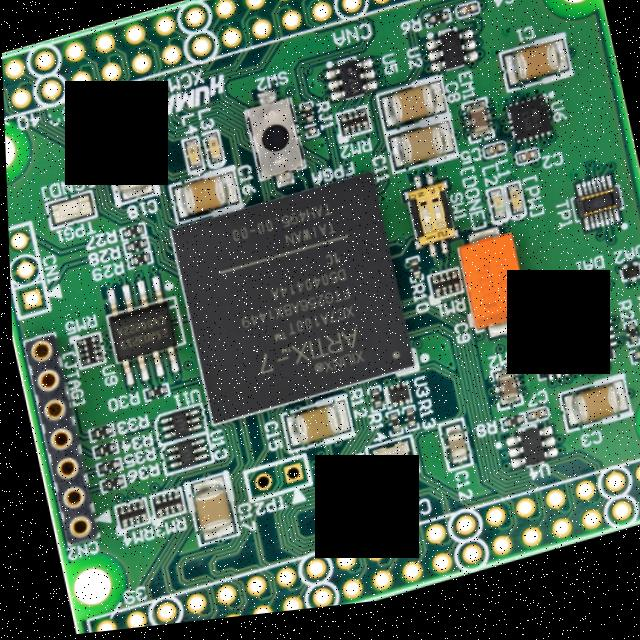-component text- -0 N-: (405, 199, 423, 209)
-component text- -1 2-: (420, 238, 447, 252)
-component text- -25Q03213 E4O0222A-: (110, 313, 167, 354)
-component text- -3 Y-: (426, 193, 441, 204)
-component text- -337G 90201-: (469, 267, 512, 323)
-component text- -ABL0 L548-: (517, 116, 542, 145)
-component text- -R50 0 D5L-: (376, 458, 400, 477)
-component text- -RN5322 E00TEC H623-: (544, 332, 591, 380)
-component text- -XILINX ARTIXTM-7 XC7A100TTM FTG256ABX1449 D5040414A 1C TAIWAN: (216, 202, 363, 403)
-component text- BU: (520, 447, 534, 467)
-component text- BUA: (444, 48, 458, 74)
-component text- C7K: (171, 419, 182, 437), (178, 450, 187, 466)
-component text- F20A: (343, 75, 360, 104)
-component text- SC: (624, 283, 633, 291)
-component text- TCR: (389, 397, 402, 407)
-electrolytic capacitor- C9: (452, 232, 528, 355)
-emi filter- EM1: (459, 106, 492, 154)
-emi filter- EM2: (487, 376, 516, 420)
-resistor jumper- RJ1: (296, 107, 316, 144)
-resistor network- RM1: (424, 276, 460, 309)
-resistor network- RM2: (334, 113, 369, 147)
-resistor network- RM3: (145, 490, 181, 524)
-resistor network- RM4: (108, 499, 145, 533)
-resistor network- RM5: (70, 333, 102, 369)
-zener diode- DA1: (583, 284, 602, 306)
-zener diode- DA2: (616, 273, 639, 298)
2005: (120, 239, 147, 257)
2016: (123, 253, 150, 271)
2024: (625, 359, 640, 377)
2025: (139, 386, 166, 404)
2036: (85, 425, 110, 442)
2041: (88, 442, 114, 460)
2045: (91, 459, 117, 478)
2052: (95, 477, 122, 495)
2189: (422, 18, 450, 37)
2211: (494, 423, 521, 442)
2240: (398, 177, 457, 270)
2350: (454, 172, 486, 244)
2376: (36, 171, 94, 203)
2384: (87, 64, 228, 138)
2509: (518, 185, 544, 231)
2689: (44, 100, 92, 129)
2741: (115, 585, 143, 609)
2746: (12, 110, 41, 133)
2844: (512, 35, 535, 55)
2856: (368, 161, 389, 192)
2867: (447, 477, 470, 512)
2900: (258, 424, 280, 460)
2911: (233, 167, 255, 203)
2933: (122, 199, 158, 224)
2955: (537, 162, 562, 183)
3057: (572, 439, 601, 463)
3153: (490, 0, 515, 20)
3188: (456, 155, 480, 177)
3210: (520, 398, 545, 421)
3221: (442, 90, 460, 115)
3232: (447, 329, 467, 357)
3250: (37, 252, 59, 285)
3251: (59, 539, 97, 564)
3257: (328, 28, 373, 57)
3258: (383, 502, 430, 534)
3295: (570, 265, 602, 289)
3296: (606, 253, 640, 281)
3339: (453, 77, 475, 112)
3340: (481, 357, 517, 382)
3430: (307, 167, 354, 194)
3561: (491, 167, 509, 191)
3563: (477, 173, 496, 198)
3564: (193, 109, 215, 136)
3565: (177, 113, 198, 141)
3766: (631, 305, 640, 330)
3767: (405, 289, 428, 325)
3789: (343, 393, 365, 429)
3800: (411, 404, 433, 440)
3811: (363, 418, 383, 450)
3866: (336, 494, 372, 520)
3877: (612, 310, 633, 337)
3954: (79, 228, 117, 254)
3965: (83, 244, 121, 269)
3976: (86, 260, 124, 285)
3985: (633, 374, 640, 397)
3986: (100, 390, 139, 417)
4001: (110, 414, 147, 439)
4006: (114, 432, 151, 457)
4010: (117, 447, 153, 472)
4018: (120, 462, 157, 488)
4157: (396, 24, 422, 44)
4179: (469, 427, 494, 451)
4208: (312, 104, 334, 140)
4210: (432, 305, 465, 329)
4211: (334, 142, 372, 169)
4212: (147, 517, 184, 541)
4213: (115, 526, 151, 550)
4214: (58, 312, 96, 338)
4266: (445, 199, 465, 233)
4270: (252, 74, 288, 98)
4303: (550, 210, 571, 243)
4312: (247, 498, 284, 524)
4325: (50, 220, 95, 246)
4331: (284, 493, 305, 514), (44, 282, 63, 304)
4341: (531, 313, 554, 333)
4342: (204, 430, 226, 467)
4343: (168, 390, 198, 412)
4352: (403, 53, 423, 79)
4363: (407, 381, 427, 408)
4367: (521, 472, 548, 495)
4368: (378, 59, 397, 85)
4369: (546, 109, 566, 137)
4371: (344, 457, 364, 484)
4372: (56, 348, 84, 411), (95, 363, 116, 392)
button SW2: (239, 89, 304, 198)
capacitor C10: (497, 47, 570, 103)
capacitor C110: (383, 126, 454, 183)
capacitor C150: (277, 403, 348, 458)
capacitor C160: (164, 170, 241, 230)
capacitor C170: (180, 475, 233, 549)
capacitor C180: (102, 133, 155, 207)
capacitor C20: (512, 158, 537, 178)
capacitor C30: (554, 388, 626, 446)
capacitor C40: (452, 10, 479, 28)
capacitor C50: (479, 150, 504, 171)
capacitor C70: (519, 418, 545, 436)
capacitor C80: (374, 85, 446, 142)
capacitor unknown: (433, 427, 467, 481)
clock X1: (360, 443, 414, 493)
connector CN2: (7, 221, 46, 318)
connector CN3: (20, 329, 95, 550)
connector CNB: (0, 0, 585, 125)
connector CON2: (78, 463, 640, 634)
connector TP3: (240, 460, 306, 506)
connector TRA1: (43, 191, 95, 230)
ic FPGA: (167, 175, 414, 433)
ic TP1: (564, 185, 624, 247)
ic U1: (520, 315, 616, 397)
ic U10: (154, 434, 208, 479)
ic U11: (148, 406, 202, 449)
ic U2: (423, 37, 478, 85)
ic U3: (380, 389, 407, 417)
ic U4: (500, 435, 554, 483)
ic U5: (322, 65, 376, 111)
ic U6: (502, 104, 551, 156)
ic U9: (98, 276, 177, 391)
led L1: (501, 192, 523, 230)
led L2: (483, 195, 506, 234)
led L3: (200, 133, 223, 171)
led L4: (179, 139, 202, 177)
pads R19: (371, 485, 400, 508)
resistor R10: (637, 329, 640, 356)
resistor R100: (402, 265, 419, 290)
resistor R120: (363, 393, 380, 420)
resistor R130: (397, 413, 414, 440)
resistor R140: (381, 417, 398, 444)
resistor R20: (619, 333, 636, 361)
resistor R270: (116, 225, 143, 243)
